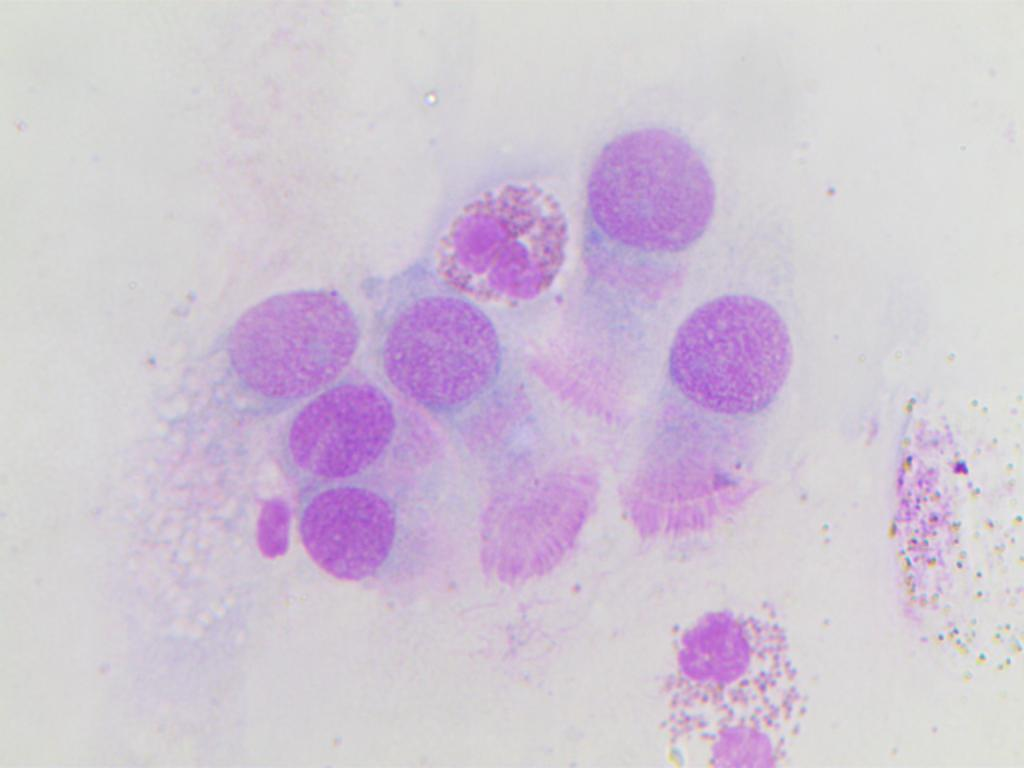artifact: (872, 396, 1024, 680), (250, 489, 298, 569)
ciliated: (382, 293, 608, 574), (526, 122, 719, 432), (612, 290, 804, 544)
eosinophil: (648, 602, 801, 762), (430, 165, 574, 301)
epithelial: (285, 380, 398, 480), (295, 481, 402, 586)
goblet_cell: (221, 285, 361, 397)
